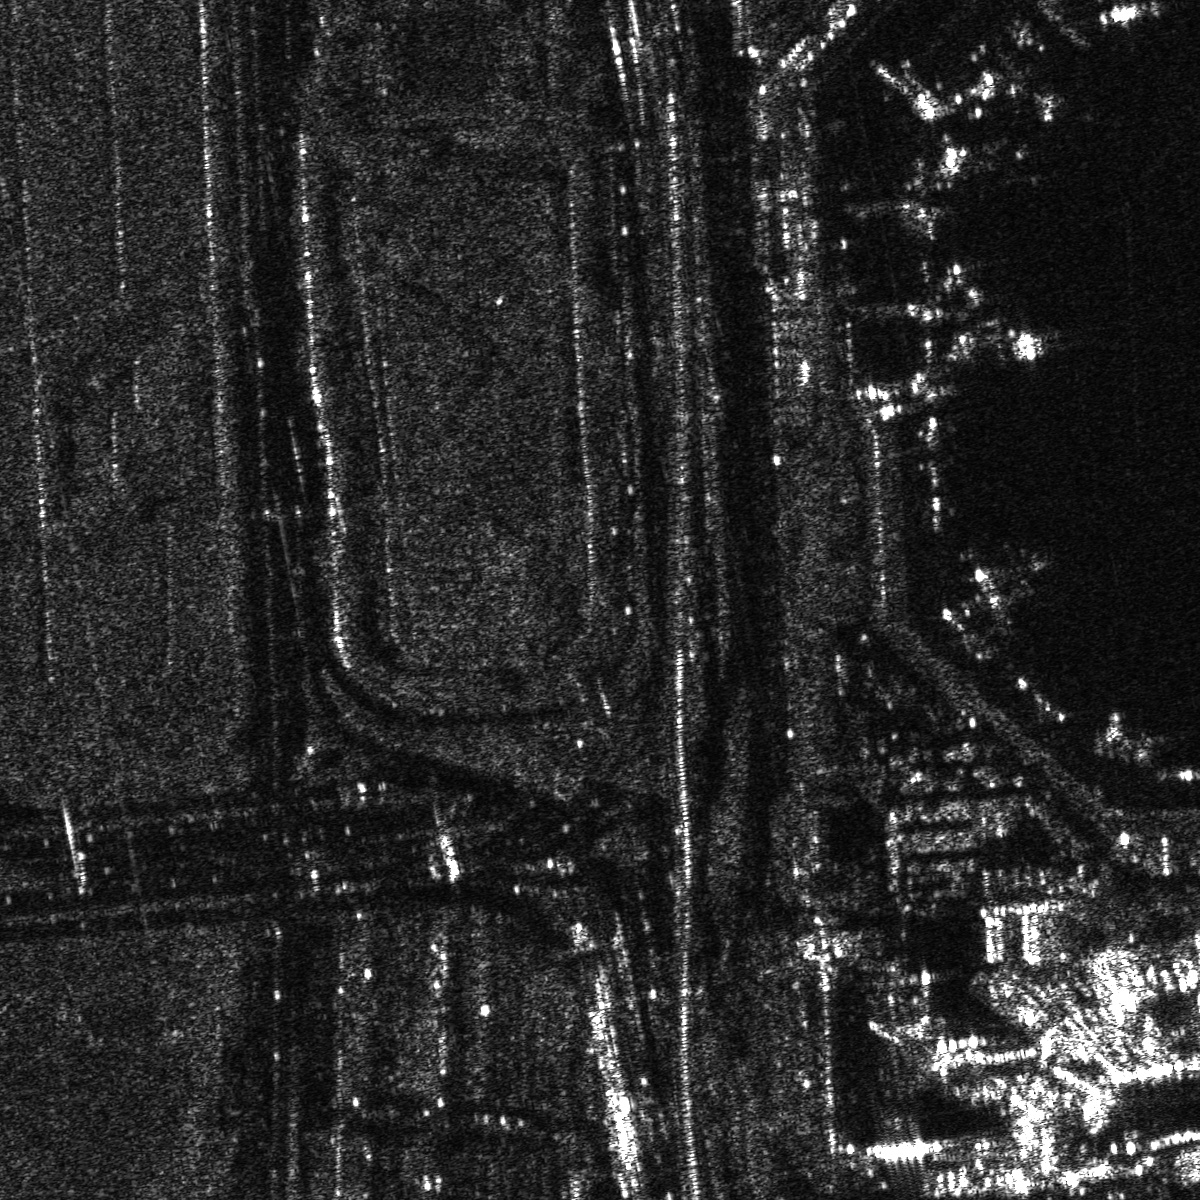A220: (951, 538, 1055, 630)
A320/321: (924, 284, 1052, 370), (987, 63, 1069, 127)
